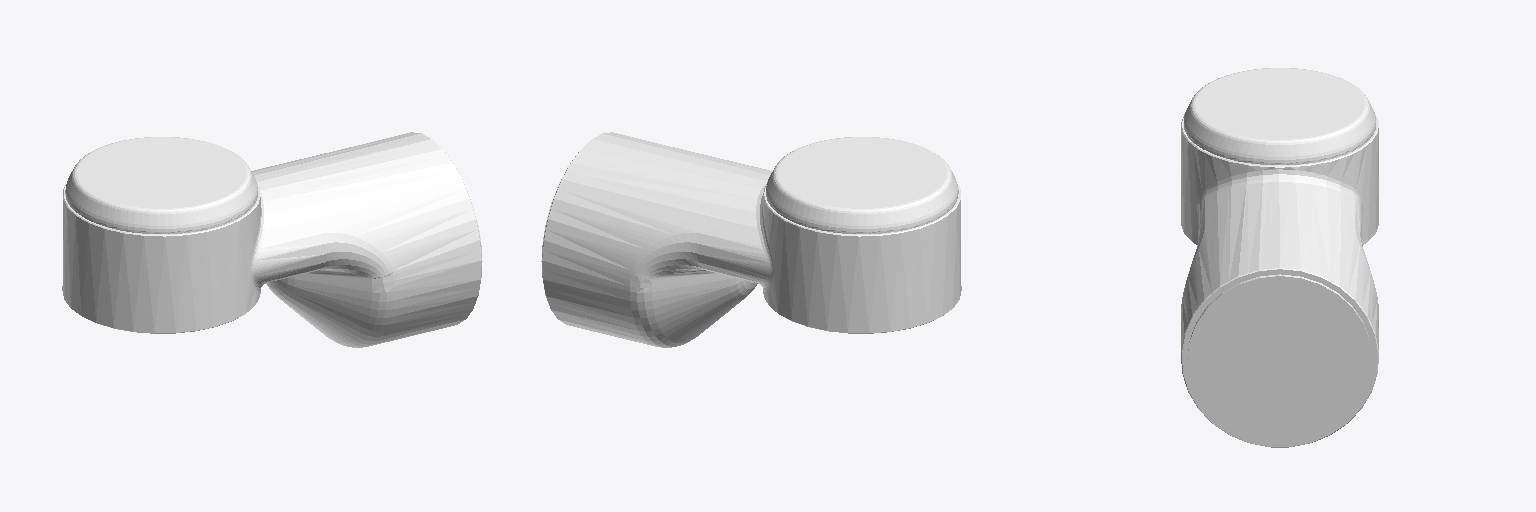
The model's file is elbow_flex_link.obj.
The picture shows the model from 3 angles: view 1: azimuth 30°, elevation 25°; view 2: azimuth 150°, elevation 25°; view 3: azimuth 270°, elevation 25°; orthographic projection.
Bounding box in the file's own units: 0.218 × 0.1225 × 0.104.